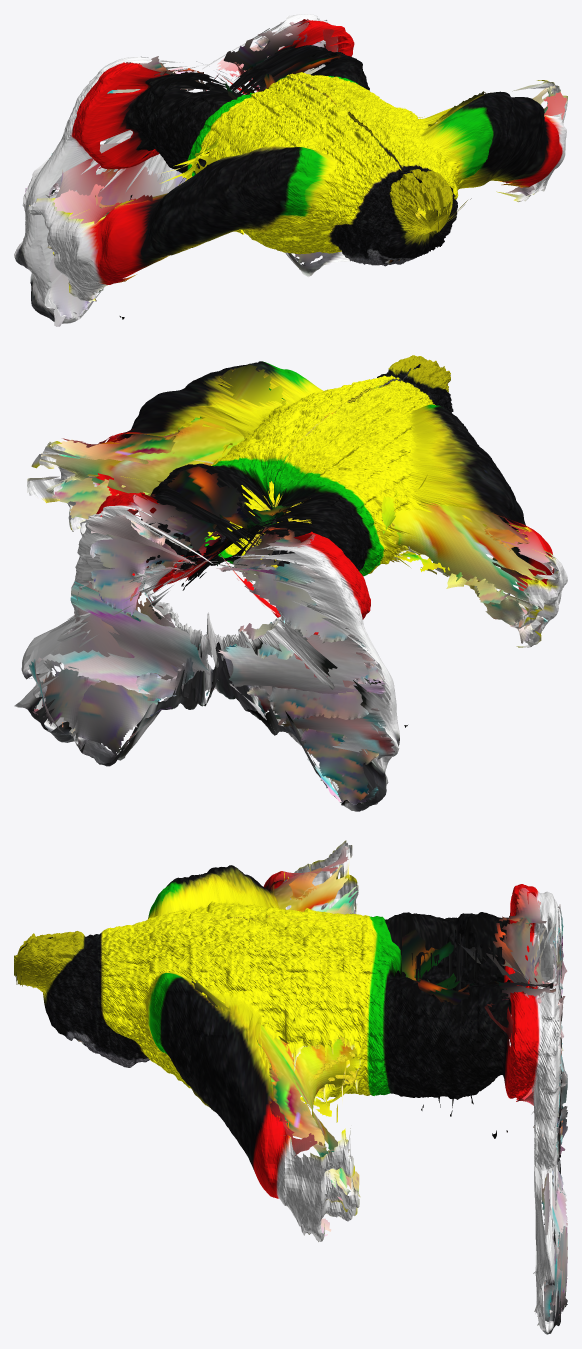
File: detail_mesh.glb
The picture shows the model from 3 angles, top to bottom: view 1: azimuth 30°, elevation 25°; view 2: azimuth 150°, elevation 25°; view 3: azimuth 270°, elevation 25°; orthographic projection. The views are drawn at different scales.
Parts seen in each view (by area): view 1: ipn, fill; view 2: ipn, fill; view 3: ipn, fill.
Boxes of the visible parts, x1=… form: ipn: x1=14, y1=14, x2=567, y2=326; fill: x1=19, y1=19, x2=566, y2=319; ipn: x1=14, y1=355, x2=567, y2=811; fill: x1=29, y1=364, x2=553, y2=805; ipn: x1=14, y1=840, x2=561, y2=1334; fill: x1=190, y1=846, x2=567, y2=1325.
Size of the model in its own units: 1.77 by 0.9221 by 1.35.
Materials: 2 (1 with a texture image).
